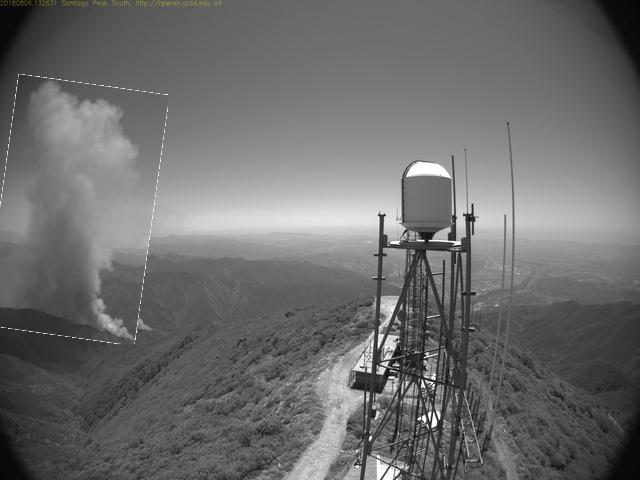smoke: (1, 79, 162, 342)
